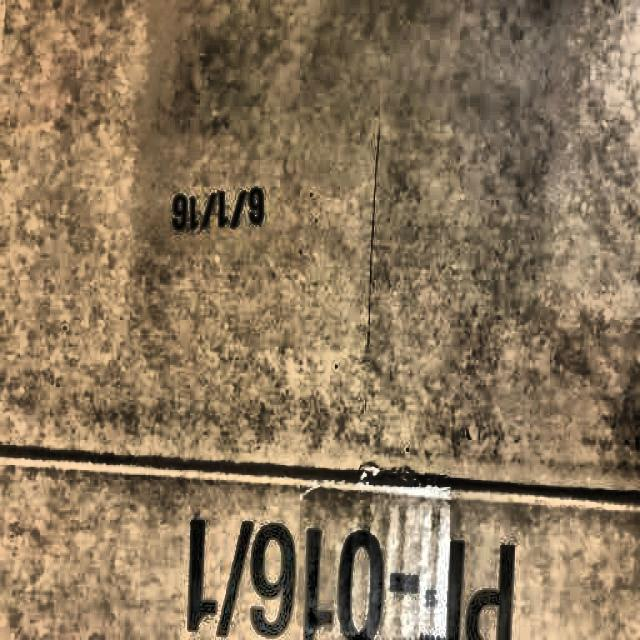cardboard: (4, 7, 637, 636)
